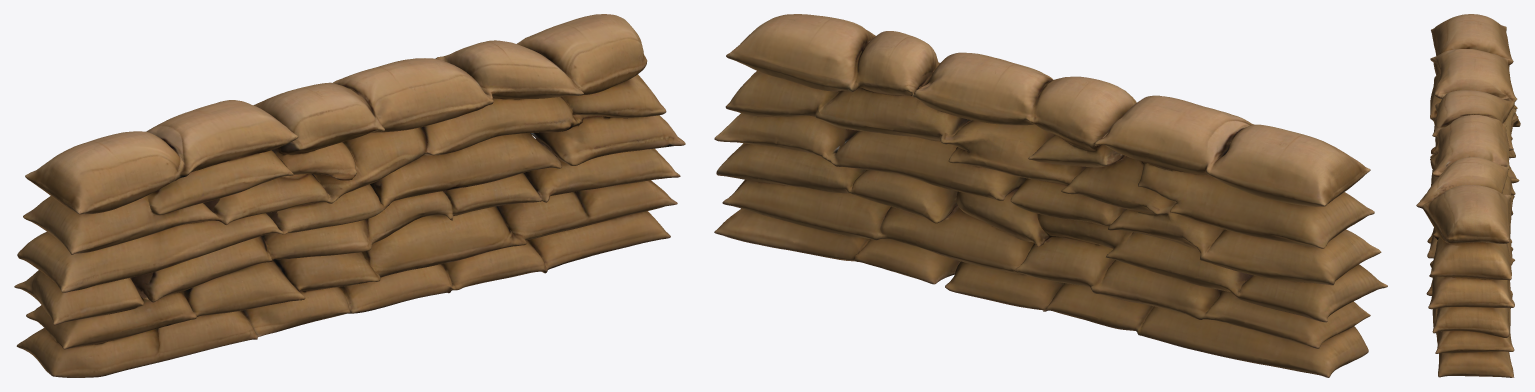
File: Bag_Wall.fbx
3 views of the same model, side by side, from view 1: azimuth 30°, elevation 25°; view 2: azimuth 150°, elevation 25°; view 3: azimuth 270°, elevation 25° (orthographic). The views are drawn at different scales.
Parts seen in each view (by area): view 1: Mesh_0; view 2: Mesh_0; view 3: Mesh_0.
Boxes of the visible parts, x1,y1,x2,y2 form: Mesh_0: [14, 14, 685, 377]; Mesh_0: [714, 14, 1387, 377]; Mesh_0: [1416, 14, 1520, 377].
Bounding box in the file's own units: 200 × 66.38 × 38.41.
1 material, 1 textured.
